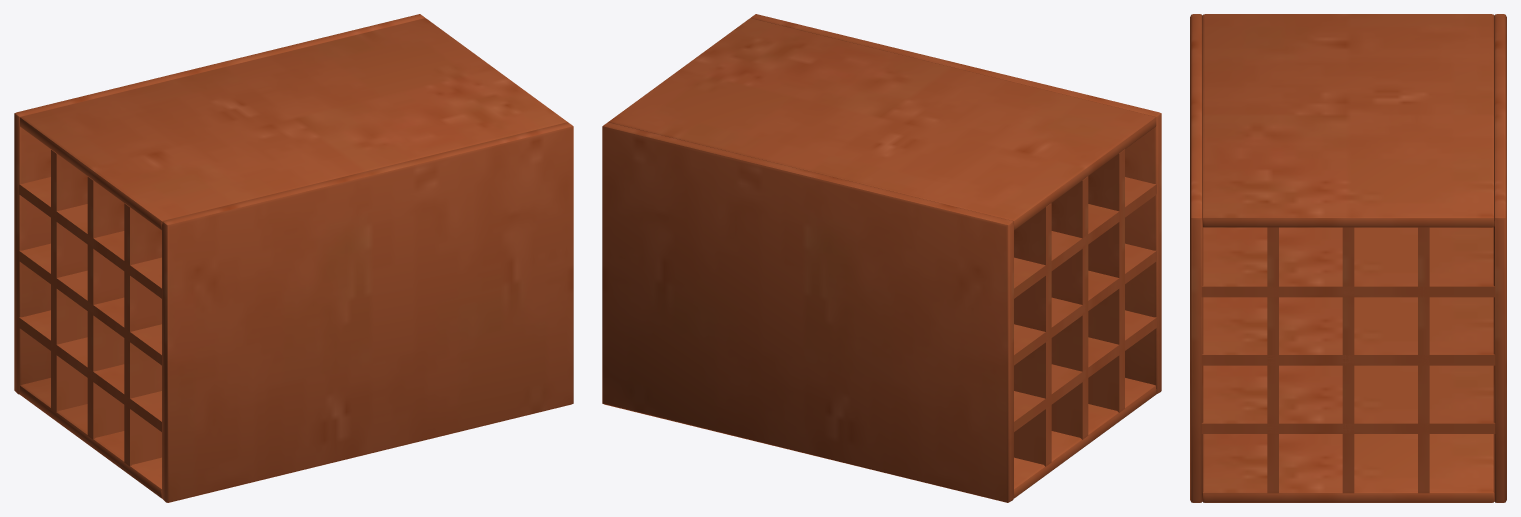
Rendered from ALV-BLC-005_lod1.glb.
3 views of the same model, side by side, from view 1: azimuth 30°, elevation 25°; view 2: azimuth 150°, elevation 25°; view 3: azimuth 270°, elevation 25° (orthographic). The views are drawn at different scales.
Visible parts, largest first — view 1: ALV-BLC-005_pf1, ALV-BLC-005_pt, ALV-BLC-005_pf2, ALV-BLC-005_sv2, ALV-BLC-005_sv1, ALV-BLC-005_sv3, ALV-BLC-005_sh2, ALV-BLC-005_sh3, ALV-BLC-005_sh1, ALV-BLC-005_pb; view 2: ALV-BLC-005_pf2, ALV-BLC-005_pt, ALV-BLC-005_pf1, ALV-BLC-005_sv3, ALV-BLC-005_sv2, ALV-BLC-005_sv1, ALV-BLC-005_sh3, ALV-BLC-005_sh1, ALV-BLC-005_pb, ALV-BLC-005_sh2; view 3: ALV-BLC-005_pt, ALV-BLC-005_sh3, ALV-BLC-005_sh1, ALV-BLC-005_sh2, ALV-BLC-005_pb, ALV-BLC-005_pf1, ALV-BLC-005_pf2, ALV-BLC-005_sv2, ALV-BLC-005_sv3, ALV-BLC-005_sv1.
Boxes of the visible parts, <box> form: ALV-BLC-005_pf1: <box>162,122,573,502</box>; ALV-BLC-005_pt: <box>20,18,567,230</box>; ALV-BLC-005_pf2: <box>14,14,425,394</box>; ALV-BLC-005_sv2: <box>87,176,124,439</box>; ALV-BLC-005_sv1: <box>124,203,161,466</box>; ALV-BLC-005_sv3: <box>51,149,87,412</box>; ALV-BLC-005_sh2: <box>19,243,161,365</box>; ALV-BLC-005_sh3: <box>19,177,161,298</box>; ALV-BLC-005_sh1: <box>19,310,161,431</box>; ALV-BLC-005_pb: <box>20,378,161,498</box>; ALV-BLC-005_pf2: <box>602,122,1013,502</box>; ALV-BLC-005_pt: <box>608,18,1156,230</box>; ALV-BLC-005_pf1: <box>750,14,1161,394</box>; ALV-BLC-005_sv3: <box>1014,203,1051,466</box>; ALV-BLC-005_sv2: <box>1051,176,1088,439</box>; ALV-BLC-005_sv1: <box>1088,149,1124,412</box>; ALV-BLC-005_sh3: <box>1014,177,1156,298</box>; ALV-BLC-005_sh1: <box>1014,310,1156,431</box>; ALV-BLC-005_pb: <box>1014,378,1156,498</box>; ALV-BLC-005_sh2: <box>1014,243,1156,365</box>; ALV-BLC-005_pt: <box>1202,14,1494,227</box>; ALV-BLC-005_sh3: <box>1201,227,1495,297</box>; ALV-BLC-005_sh1: <box>1201,365,1495,433</box>; ALV-BLC-005_sh2: <box>1201,297,1495,365</box>; ALV-BLC-005_pb: <box>1202,434,1494,502</box>; ALV-BLC-005_pf1: <box>1190,14,1203,502</box>; ALV-BLC-005_pf2: <box>1493,14,1506,502</box>; ALV-BLC-005_sv2: <box>1342,227,1354,493</box>; ALV-BLC-005_sv3: <box>1418,227,1429,493</box>; ALV-BLC-005_sv1: <box>1267,227,1278,493</box>.
Bounding box in the file's own units: 0.29 × 0.19 × 0.19.
1 material, 1 textured.
